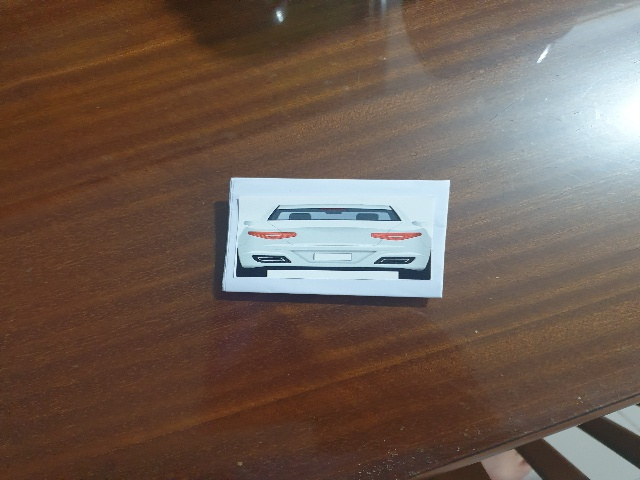Car: (236, 205, 433, 279)
